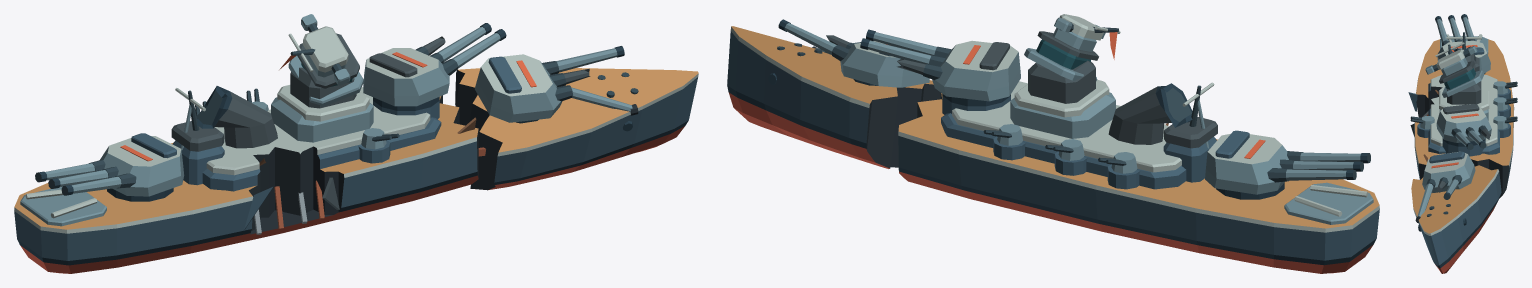
Rendered from yamato_battleship_destroyed.glb.
The picture shows the model from 3 angles, left to right: view 1: azimuth 30°, elevation 25°; view 2: azimuth 150°, elevation 25°; view 3: azimuth 270°, elevation 25°; orthographic projection. The views are drawn at different scales.
Parts seen in each view (by area): view 1: yamato_battleship_destroyed; view 2: yamato_battleship_destroyed; view 3: yamato_battleship_destroyed.
Boxes of the visible parts, left/top/right/bottom form: yamato_battleship_destroyed: left=14, top=14, right=698, bottom=273; yamato_battleship_destroyed: left=727, top=14, right=1379, bottom=273; yamato_battleship_destroyed: left=1408, top=14, right=1517, bottom=273.
Bounding box in the file's own units: 3.84 × 1.12 × 0.8795.
